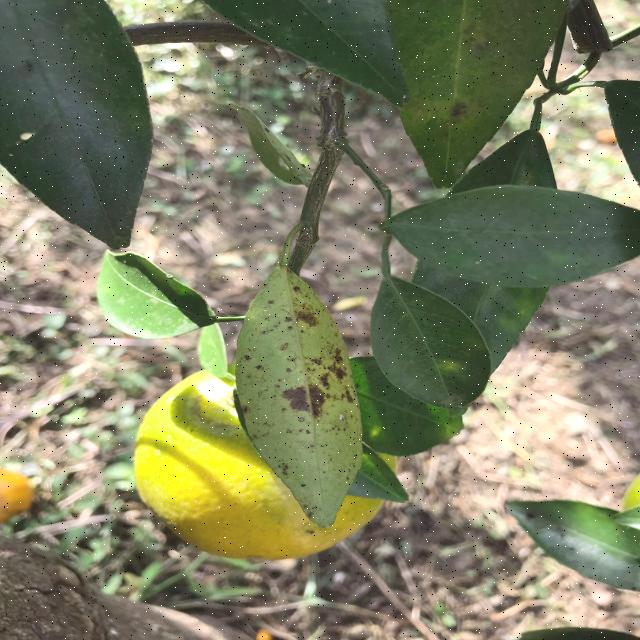melanose: (206, 264, 378, 522)
